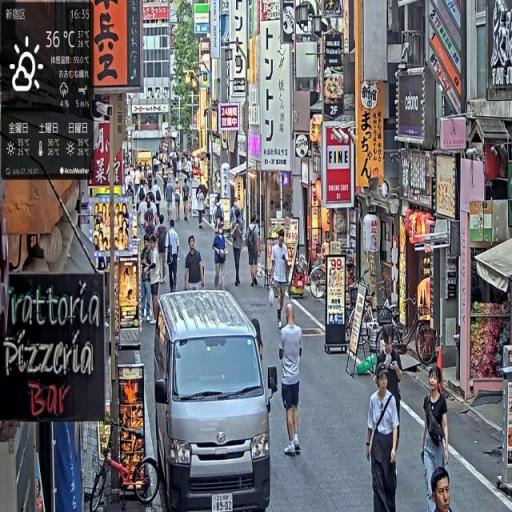person: (366, 365, 400, 512), (278, 303, 306, 461), (421, 366, 450, 508), (270, 231, 291, 330), (184, 235, 206, 291), (231, 211, 246, 289), (248, 214, 263, 289), (213, 222, 229, 291), (167, 218, 181, 295), (430, 466, 453, 512), (157, 218, 170, 287), (197, 186, 206, 231)
